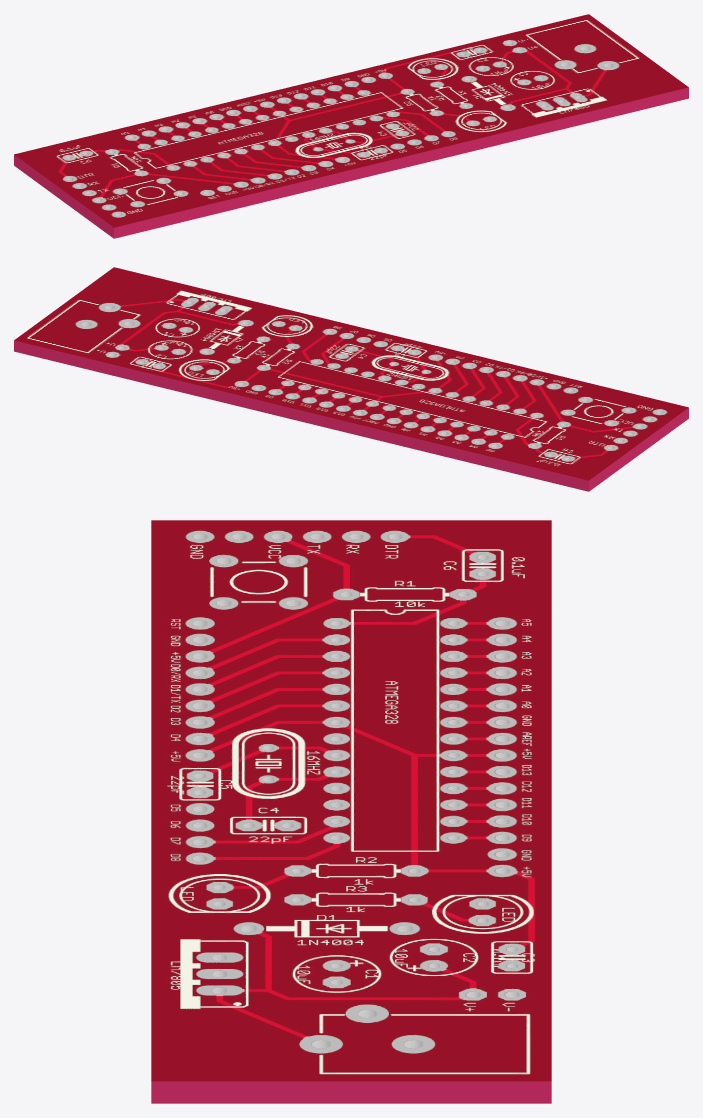
The model's file is balora.glb.
3 renders of one model, top to bottom at view 1: azimuth 30°, elevation 25°; view 2: azimuth 150°, elevation 25°; view 3: azimuth 270°, elevation 25°, orthographic. The views are drawn at different scales.
Visible parts, largest first — view 1: Object_3, Object_5, Object_4; view 2: Object_3, Object_5, Object_4; view 3: Object_3, Object_5, Object_4.
Part boxes in pixels (bbox=[...]): Object_3: bbox=[14, 14, 688, 227]; Object_5: bbox=[14, 87, 688, 238]; Object_4: bbox=[66, 41, 613, 216]; Object_3: bbox=[14, 267, 688, 480]; Object_5: bbox=[14, 340, 688, 491]; Object_4: bbox=[81, 300, 663, 460]; Object_3: bbox=[151, 520, 551, 1081]; Object_5: bbox=[151, 1081, 551, 1103]; Object_4: bbox=[192, 533, 520, 1048].
Bounding box in the file's own units: 86.36 × 1.6 × 26.03.
4 materials, 2 textured.
